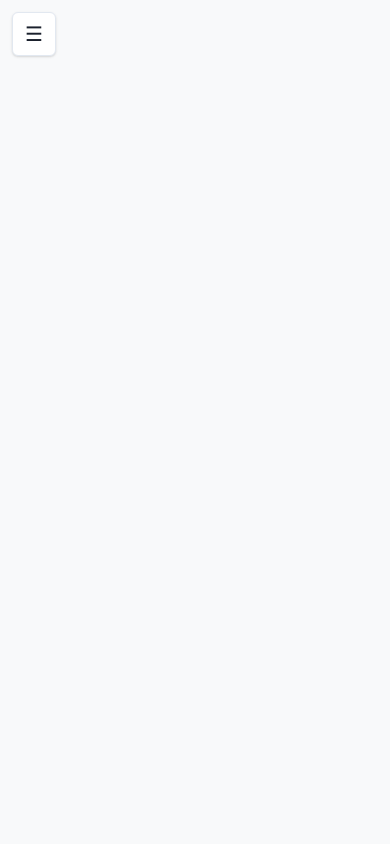
Test case: Layout › escape key closes mobile sidebar
Click the button named "open navigation menu" at {"x": 34, "y": 34}, box [12,12,56,56]
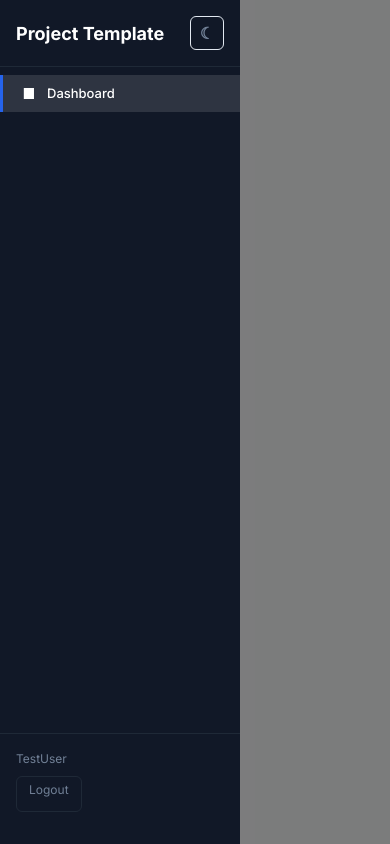
expect the navigation bar with class "sidebar-open" is shown: met
Press Escape
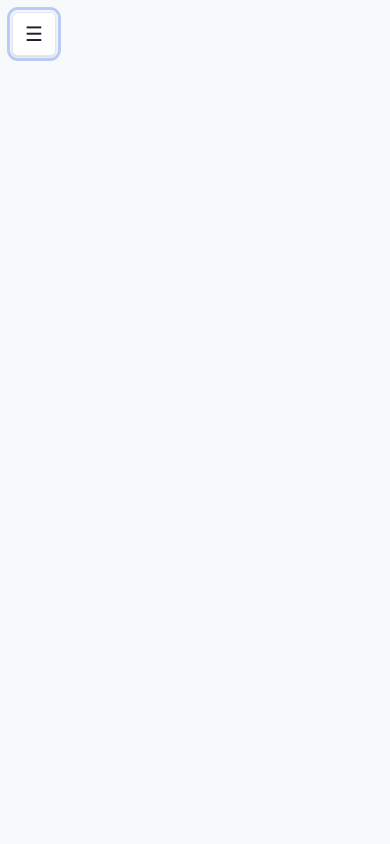
expect the navigation bar with class "sidebar-open" is gone: met
